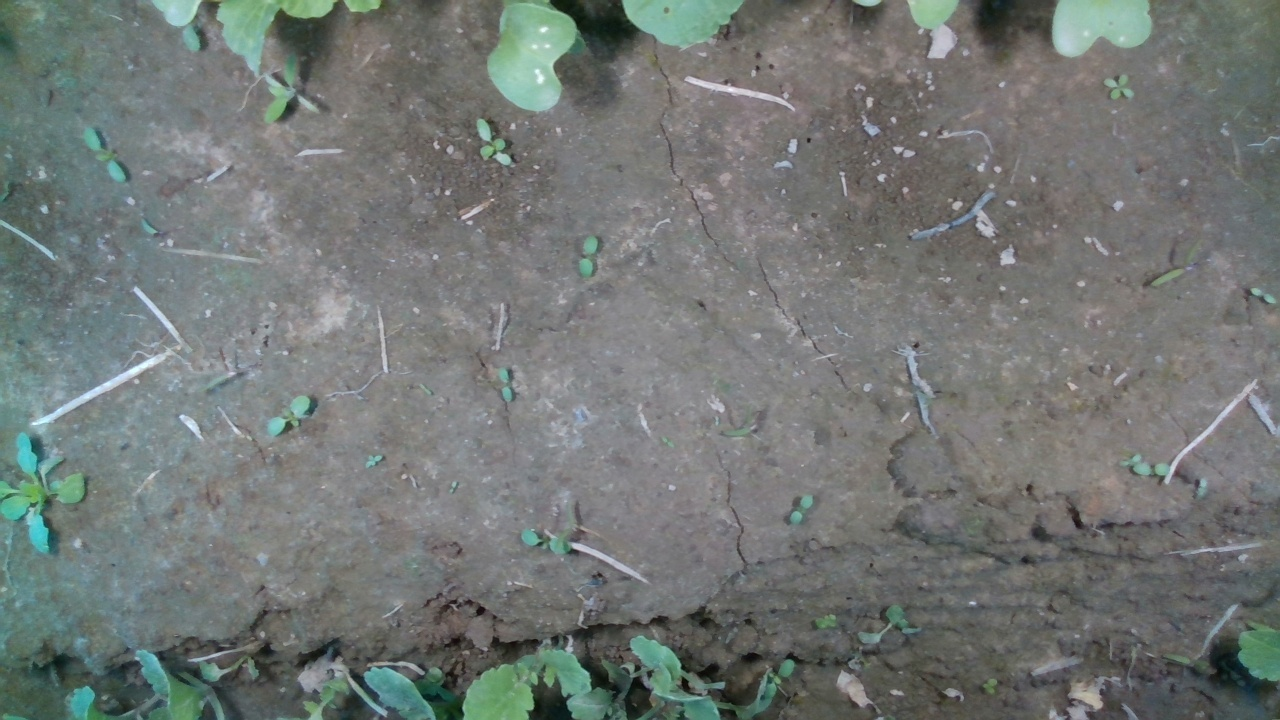weed: (81, 124, 127, 184), (266, 393, 313, 436), (475, 116, 514, 167), (786, 494, 815, 528), (1101, 73, 1135, 101), (577, 235, 599, 277), (495, 365, 514, 402), (1249, 286, 1277, 305), (1193, 475, 1210, 500), (363, 451, 385, 470), (981, 677, 999, 696), (416, 381, 433, 397), (660, 435, 675, 451), (446, 480, 459, 495)
